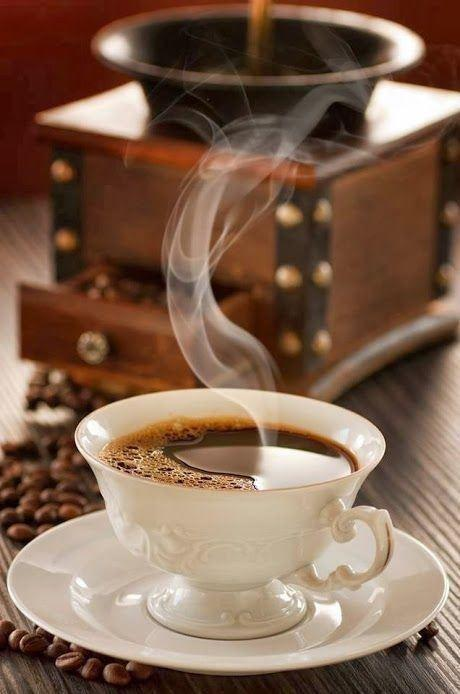cup-handle: (73, 386, 396, 640)
